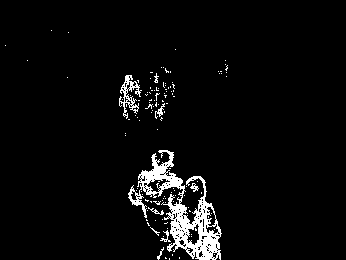person: (127, 150, 183, 241), (165, 176, 222, 258), (147, 67, 177, 122), (116, 74, 143, 121)
